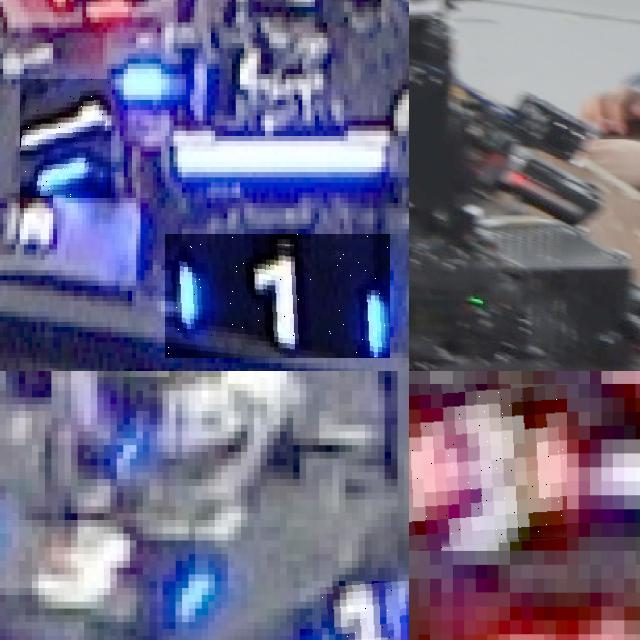B1: (165, 234, 390, 358), (20, 79, 111, 198)
B3: (312, 581, 409, 640)
R3: (409, 384, 567, 551)
